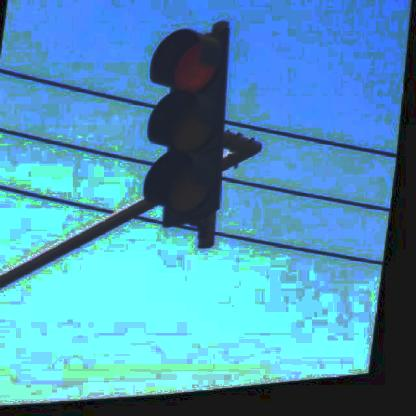Traffic Light -Red-: (133, 27, 246, 234)
